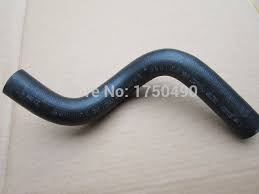radiator_hose: (4, 48, 259, 138)
